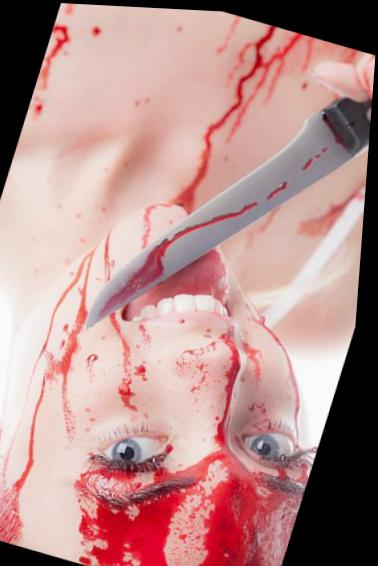Fire: (0, 203, 320, 566), (174, 12, 357, 207), (102, 199, 261, 319), (28, 22, 70, 119), (302, 192, 354, 231), (270, 178, 291, 197), (305, 154, 314, 166), (90, 25, 101, 34), (66, 3, 74, 13), (326, 143, 331, 148)
